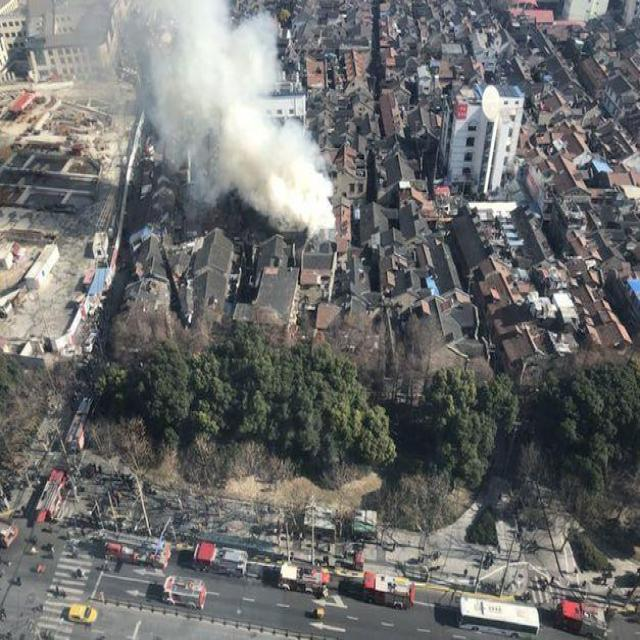smoke: (47, 0, 333, 227)
